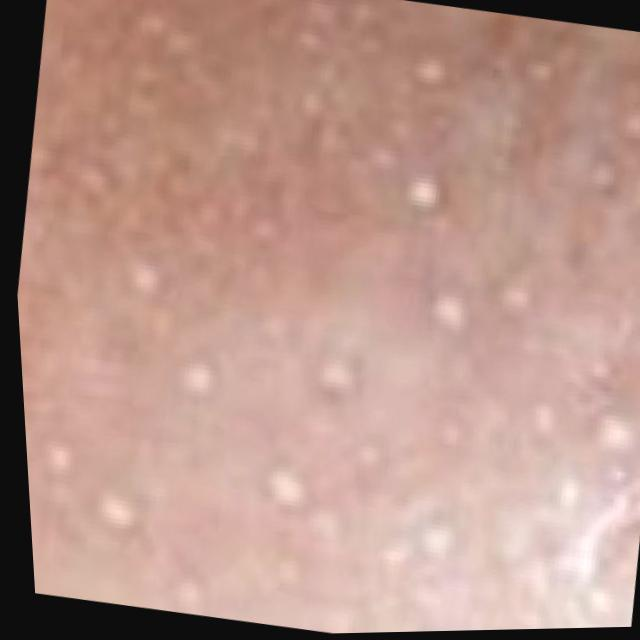whitehead: (14, 0, 640, 635)
